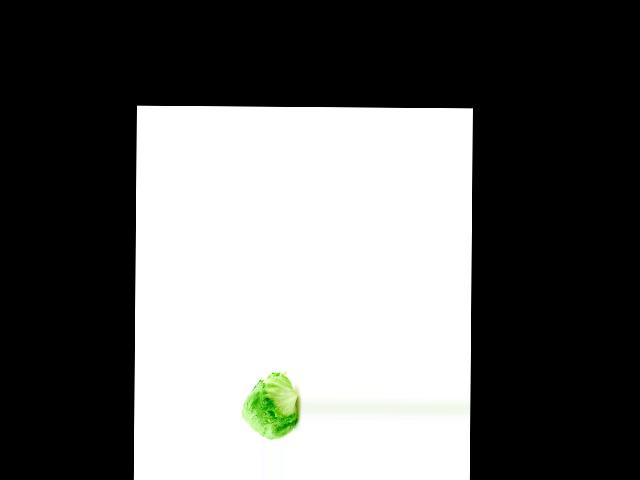lettuce: (239, 372, 298, 441)
